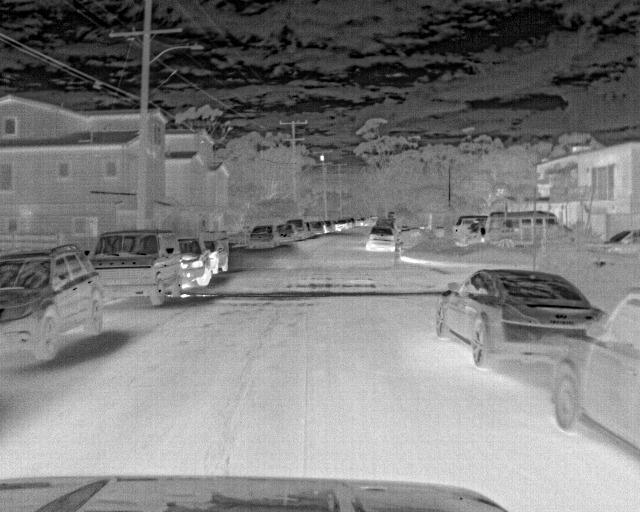car: (431, 271, 604, 371), (546, 290, 639, 463), (0, 244, 100, 369), (91, 229, 185, 308), (484, 211, 572, 250), (174, 235, 212, 288), (585, 227, 639, 257), (451, 216, 482, 247), (365, 224, 396, 253), (249, 225, 281, 249), (280, 220, 315, 241), (203, 239, 222, 274), (270, 226, 289, 245), (334, 219, 349, 234), (321, 220, 334, 234)
